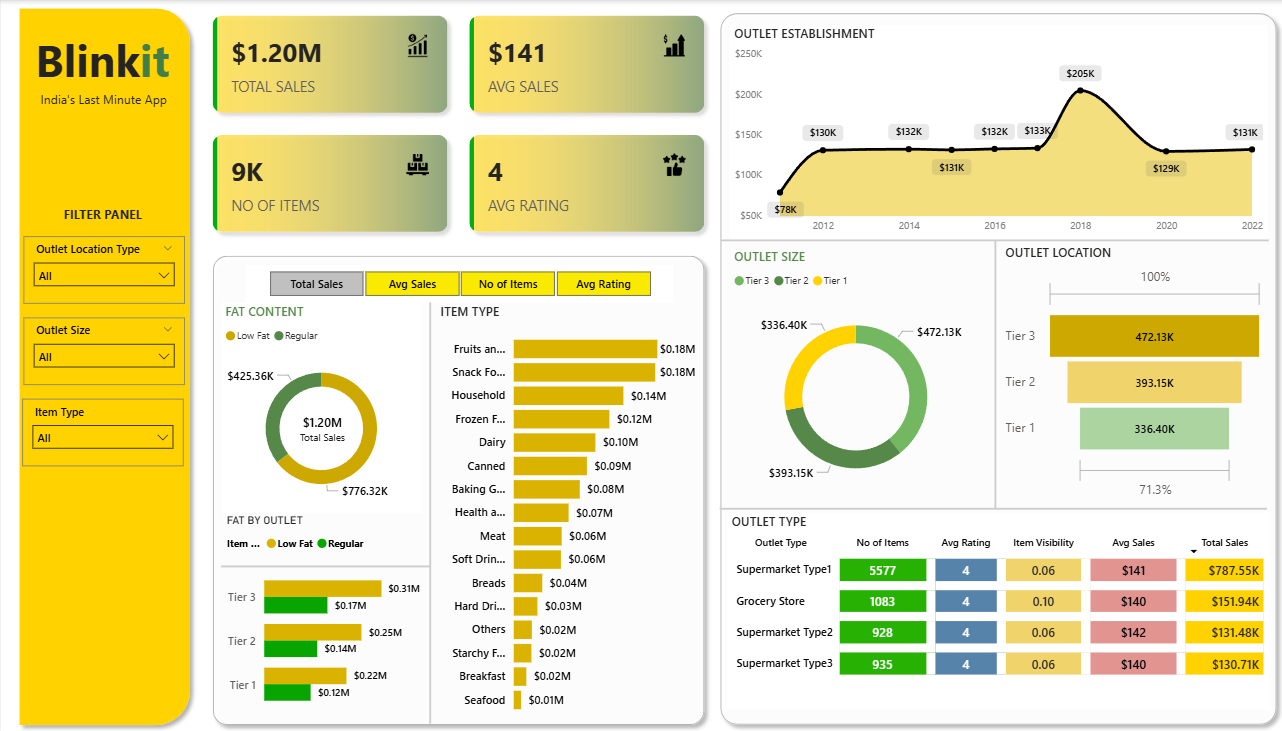

The page's visual inventory and layout, read from the dashboard file:
{"tool":"powerbi","page":{"name":"Page 1","canvas":[1400,800],"ordinal":0},"visuals":[{"type":"shape","box":[10.5,0,204.1,800],"z":0},{"type":"textbox","box":[33,27,166.6,81],"z":1000},{"type":"textbox","box":[37.5,94.6,150.1,40.5],"z":2000},{"type":"cardVisual","fields":{"Data":["BlinkIT Grocery Data.Total Sales","BlinkIT Grocery Data.Avg Sales","BlinkIT Grocery Data.No of Items","BlinkIT Grocery Data.Avg Rating"]},"box":[214.6,0,570.3,270.2],"z":3000},{"type":"shape","box":[222.1,270.2,553.8,529.8],"z":4000},{"type":"donutChart","title":"FAT CONTENT","fields":{"Y":["BlinkIT Grocery Data.Total Sales"],"Category":["BlinkIT Grocery Data.Item Fat Content"]},"box":[240.1,330.2,219.1,229.6],"z":5000},{"type":"slicer","fields":{"Values":["Metrics.Metrics"]},"box":[267.2,289.7,465.3,40.5],"z":6000},{"type":"cardVisual","fields":{"Data":["BlinkIT Grocery Data.Total Sales"]},"box":[307.7,435.3,85.5,58.5],"z":7000},{"type":"clusteredBarChart","title":"FAT BY OUTLET","fields":{"Y":["BlinkIT Grocery Data.Total Sales"],"Category":["BlinkIT Grocery Data.Outlet Location Type"],"Series":["BlinkIT Grocery Data.Item Fat Content"]},"box":[241.6,559.8,220.6,229.6],"z":8000},{"type":"shape","box":[240.1,607.8,228.1,19.5],"z":9000},{"type":"shape","box":[462.3,330.2,12,459.3],"z":10000},{"type":"barChart","title":"ITEM TYPE","fields":{"Y":["BlinkIT Grocery Data.Total Sales"],"Category":["BlinkIT Grocery Data.Item Type"]},"box":[474.3,330.2,288.2,459.3],"z":11000},{"type":"shape","box":[775.9,6,624.4,794],"z":12000},{"type":"lineChart","title":"OUTLET ESTABLISHMENT","fields":{"Y":["BlinkIT Grocery Data.Total Sales"],"Category":["BlinkIT Grocery Data.Outlet Establishment Year"]},"box":[795.5,27,586.8,235.6],"z":13000},{"type":"shape","box":[785,258.1,597.3,9],"z":14000},{"type":"donutChart","title":"OUTLET SIZE","fields":{"Y":["BlinkIT Grocery Data.Total Sales"],"Category":["BlinkIT Grocery Data.Outlet Location Type"]},"box":[794.8,269.9,275.4,280.8],"z":15000},{"type":"shape","box":[1078.4,263.1,12.3,291.8],"z":16000},{"type":"funnel","title":"OUTLET LOCATION","fields":{"Y":["Sum(BlinkIT Grocery Data.Sales)"],"Category":["BlinkIT Grocery Data.Outlet Location Type"]},"box":[1090.7,265.9,291.8,284.9],"z":17000},{"type":"shape","box":[783.9,550.8,597.1,8.2],"z":18000},{"type":"pivotTable","title":"OUTLET TYPE","fields":{"Rows":["BlinkIT Grocery Data.Outlet Type"],"Values":["BlinkIT Grocery Data.No of Items","BlinkIT Grocery Data.Avg Rating","Avg(BlinkIT Grocery Data.Item Visibility)","BlinkIT Grocery Data.Avg Sales","BlinkIT Grocery Data.Total Sales"]},"box":[792.1,559,591.7,215.4],"z":19000},{"type":"slicer","fields":{"Values":["BlinkIT Grocery Data.Outlet Location Type"]},"box":[24.5,257.7,175.9,73.6],"z":20000},{"type":"slicer","fields":{"Values":["BlinkIT Grocery Data.Outlet Size"]},"box":[24.5,346.3,175.9,73.6],"z":21000},{"type":"slicer","fields":{"Values":["BlinkIT Grocery Data.Item Type"]},"box":[23.2,434.9,175.9,73.6],"z":22000},{"type":"textbox","box":[23.2,219.5,175.9,28.6],"z":23000}]}

Visuals, with their boxes in screenshot pixels (x1, y1, x2, y2), scaled from the page's 1400x800 canvas onto the 1282x731 screenshot:
shape: {"left": 10, "top": 0, "right": 197, "bottom": 730}
textbox: {"left": 30, "top": 25, "right": 183, "bottom": 99}
textbox: {"left": 34, "top": 86, "right": 172, "bottom": 123}
cardVisual - BlinkIT Grocery Data.Total Sales x BlinkIT Grocery Data.Avg Sales: {"left": 197, "top": 0, "right": 719, "bottom": 247}
shape: {"left": 203, "top": 247, "right": 711, "bottom": 730}
"FAT CONTENT" donutChart: {"left": 220, "top": 302, "right": 420, "bottom": 512}
slicer - Metrics.Metrics: {"left": 245, "top": 265, "right": 671, "bottom": 302}
cardVisual - BlinkIT Grocery Data.Total Sales: {"left": 282, "top": 398, "right": 360, "bottom": 451}
"FAT BY OUTLET" clusteredBarChart: {"left": 221, "top": 512, "right": 423, "bottom": 721}
shape: {"left": 220, "top": 555, "right": 429, "bottom": 573}
shape: {"left": 423, "top": 302, "right": 434, "bottom": 721}
"ITEM TYPE" barChart: {"left": 434, "top": 302, "right": 698, "bottom": 721}
shape: {"left": 711, "top": 5, "right": 1281, "bottom": 730}
"OUTLET ESTABLISHMENT" lineChart: {"left": 728, "top": 25, "right": 1266, "bottom": 240}
shape: {"left": 719, "top": 236, "right": 1266, "bottom": 244}
"OUTLET SIZE" donutChart: {"left": 728, "top": 247, "right": 980, "bottom": 503}
shape: {"left": 988, "top": 240, "right": 999, "bottom": 507}
"OUTLET LOCATION" funnel: {"left": 999, "top": 243, "right": 1266, "bottom": 503}
shape: {"left": 718, "top": 503, "right": 1265, "bottom": 511}
"OUTLET TYPE" pivotTable: {"left": 725, "top": 511, "right": 1267, "bottom": 708}
slicer - BlinkIT Grocery Data.Outlet Location Type: {"left": 22, "top": 235, "right": 184, "bottom": 303}
slicer - BlinkIT Grocery Data.Outlet Size: {"left": 22, "top": 316, "right": 184, "bottom": 384}
slicer - BlinkIT Grocery Data.Item Type: {"left": 21, "top": 397, "right": 182, "bottom": 465}
textbox: {"left": 21, "top": 201, "right": 182, "bottom": 227}
